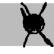not correct: (17, 1, 54, 49)
